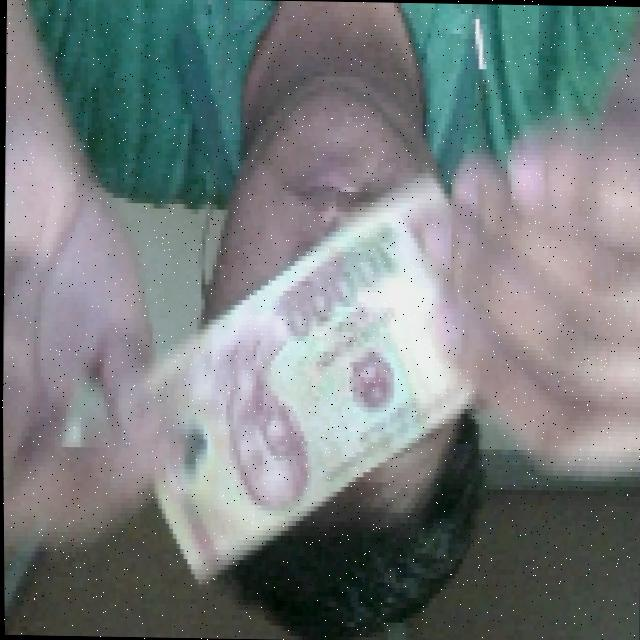10 000 VND: (134, 167, 486, 598)
